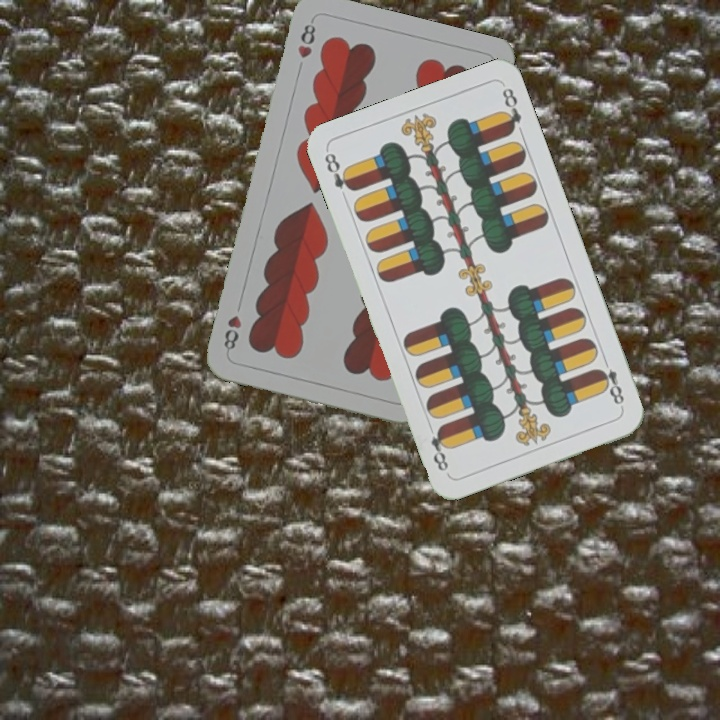E8: (593, 354, 627, 411), (320, 148, 357, 194)
H8: (293, 16, 319, 61)
